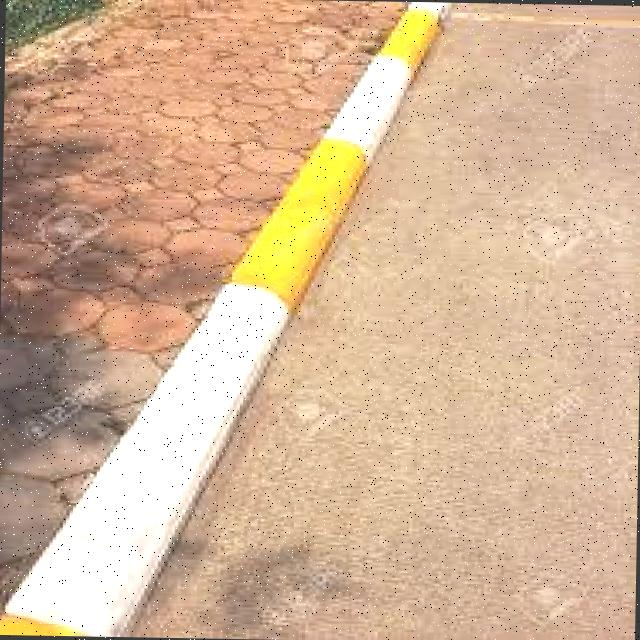curb: (1, 391, 259, 639), (164, 233, 346, 387), (342, 9, 461, 124), (289, 129, 398, 220)
